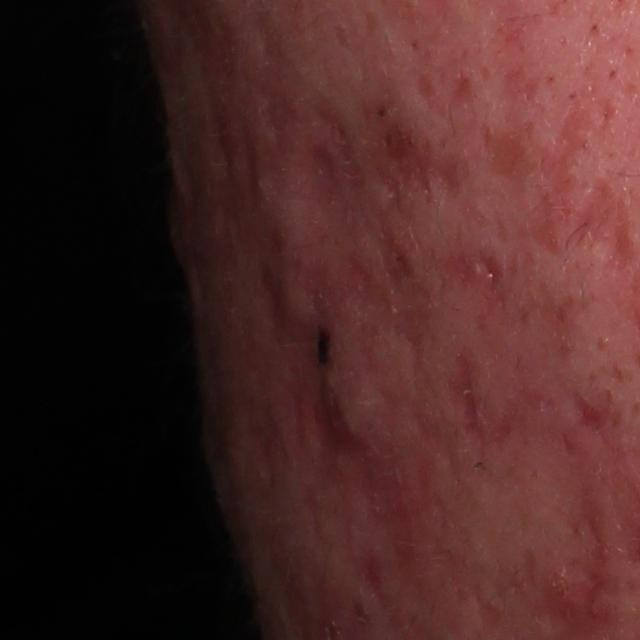atrophic_scar: (479, 86, 632, 273), (359, 24, 472, 213), (226, 220, 285, 345), (296, 138, 362, 236), (242, 369, 290, 490), (251, 33, 297, 140), (316, 103, 362, 191)
